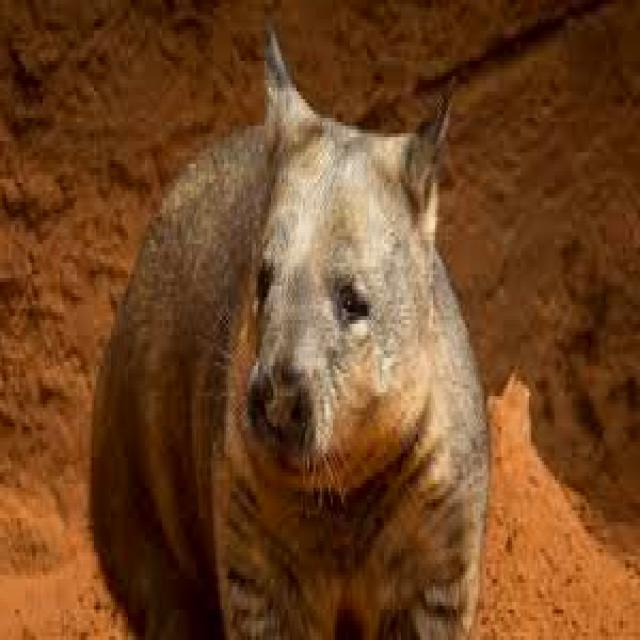wombats: (83, 27, 491, 636)
